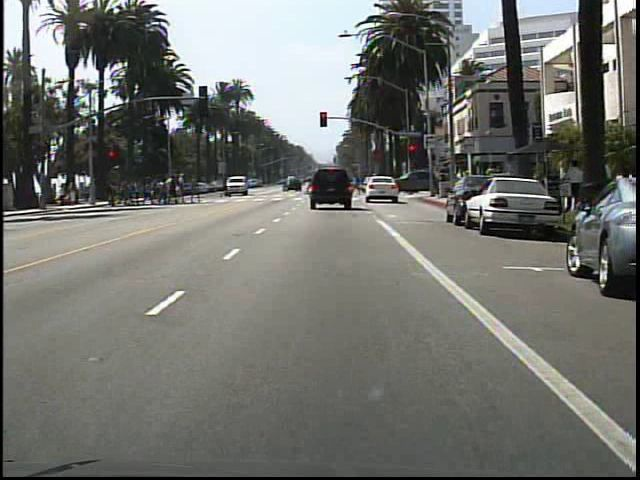person: (559, 159, 586, 215), (595, 157, 617, 214), (214, 172, 234, 201)
